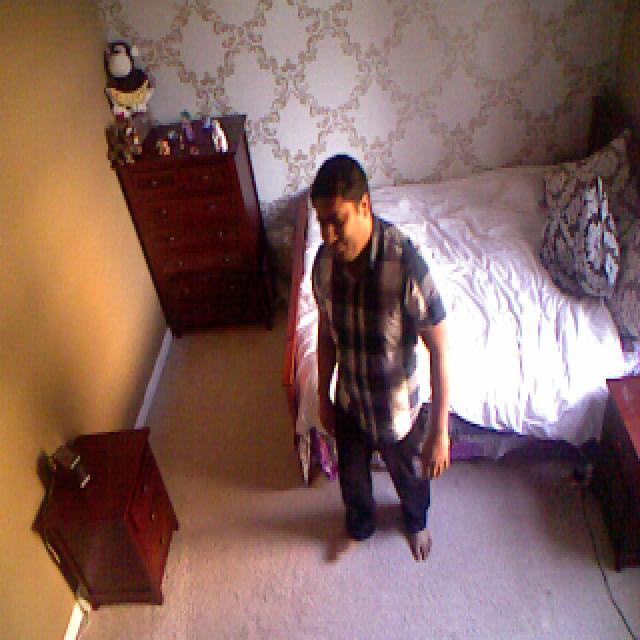standing: (308, 157, 448, 568)
